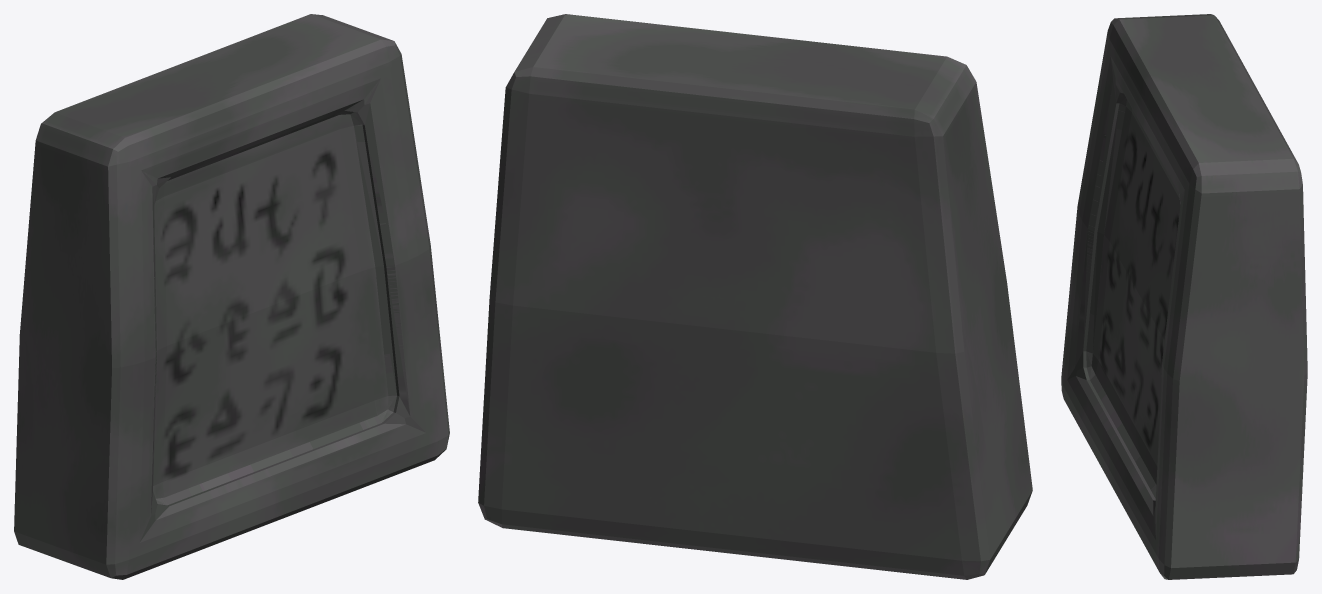
Rendered from tablet.fbx.
3 views of the same model, side by side, from view 1: azimuth 30°, elevation 25°; view 2: azimuth 150°, elevation 25°; view 3: azimuth 270°, elevation 25° (orthographic). The views are drawn at different scales.
Parts seen in each view (by area): view 1: node_id4; view 2: node_id4; view 3: node_id4.
Part boxes in pixels (bbox=[...]): node_id4: bbox=[14, 14, 449, 579]; node_id4: bbox=[478, 14, 1032, 579]; node_id4: bbox=[1061, 14, 1307, 579].
Size of the model in its own units: 0.547 by 0.5252 by 0.2857.
1 material, 1 textured.
